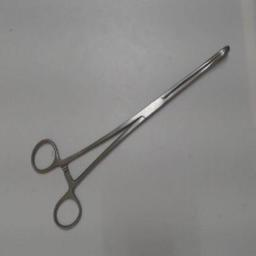Sponge Forceps: (28, 42, 236, 236)
